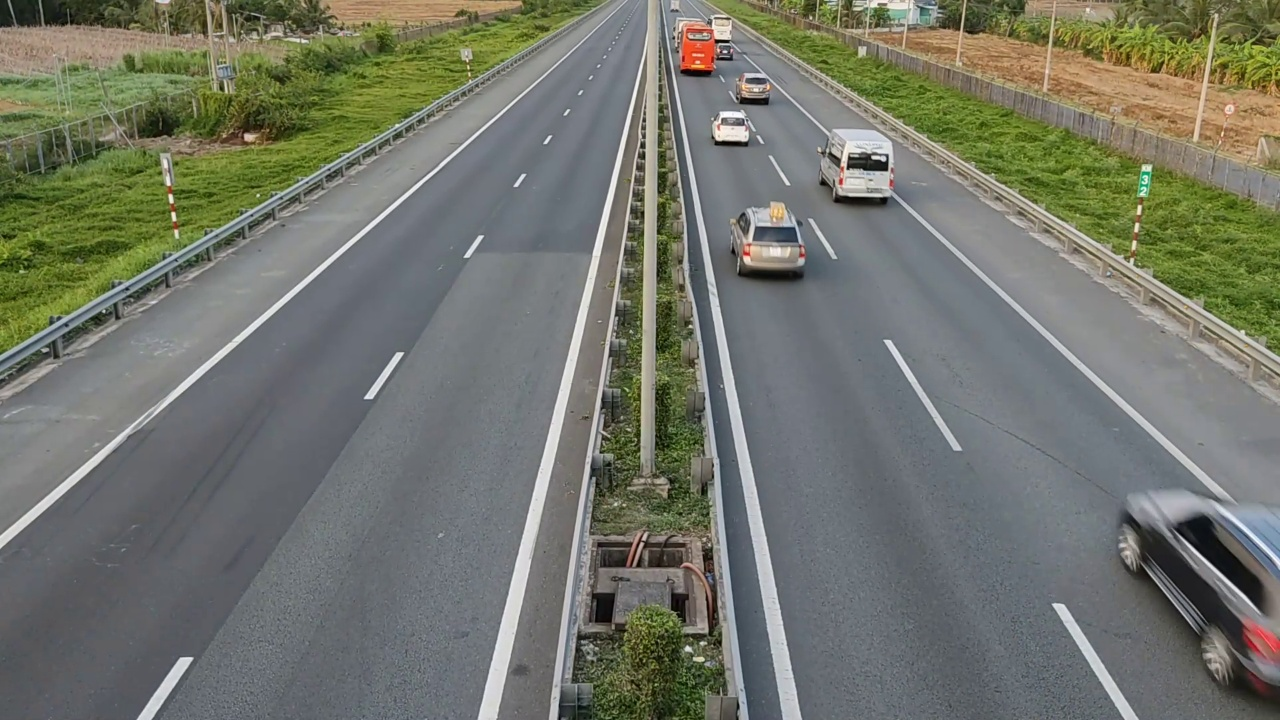car: (817, 127, 895, 203), (729, 203, 807, 278), (709, 109, 751, 145), (733, 73, 773, 104)
